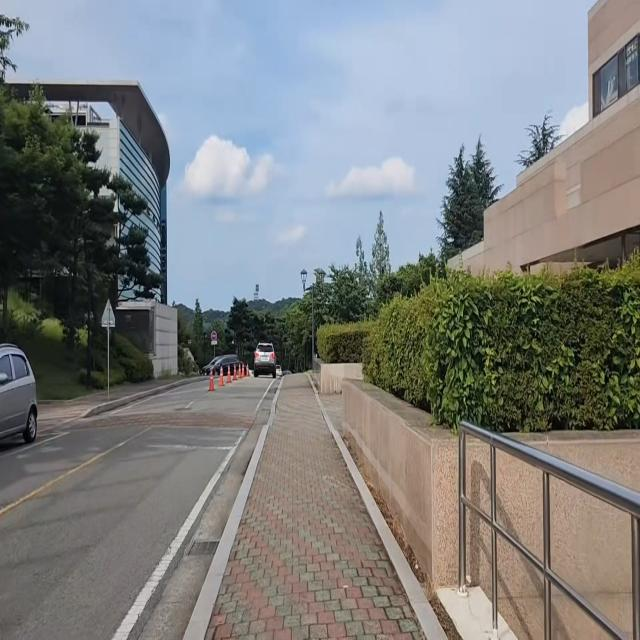obstacle: (0, 332, 44, 461), (248, 338, 279, 384)
road: (0, 381, 275, 640)
sidewalk: (184, 373, 451, 640)
